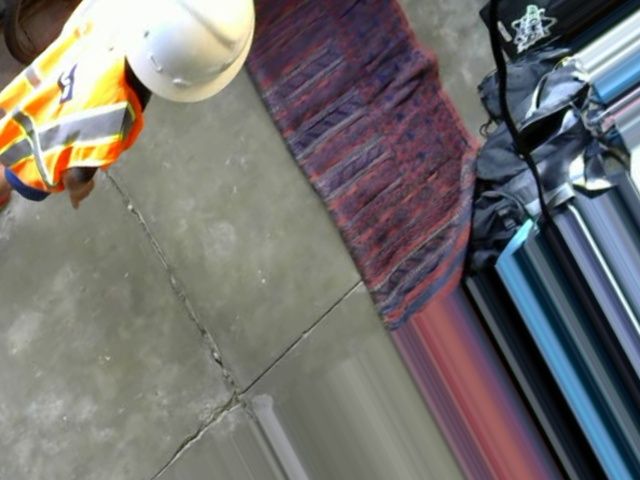eight: (153, 0, 219, 6)
